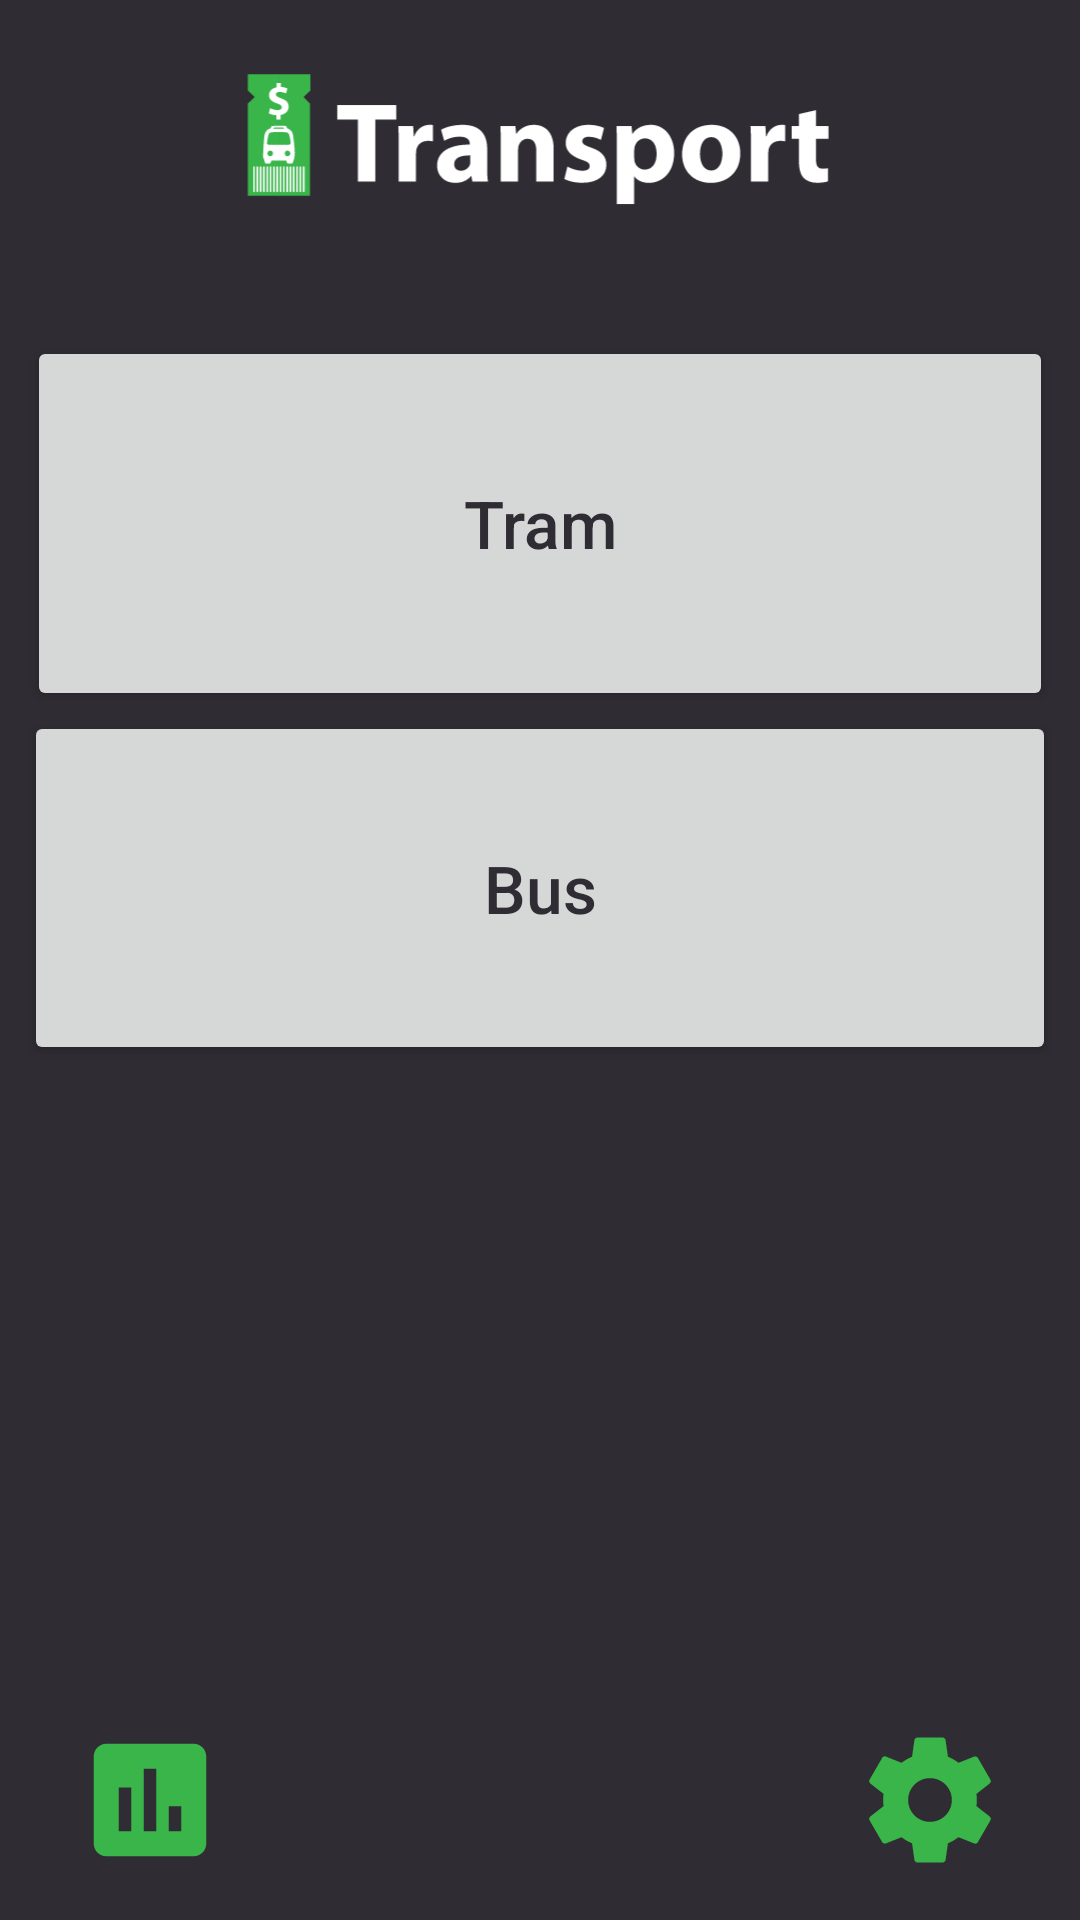

Locate icon controls on the screen. Image size 1080*1920, boxes as (x1, y1, x2, y2).
settings: (869, 1737, 991, 1863)
stats: (93, 1743, 207, 1857)
